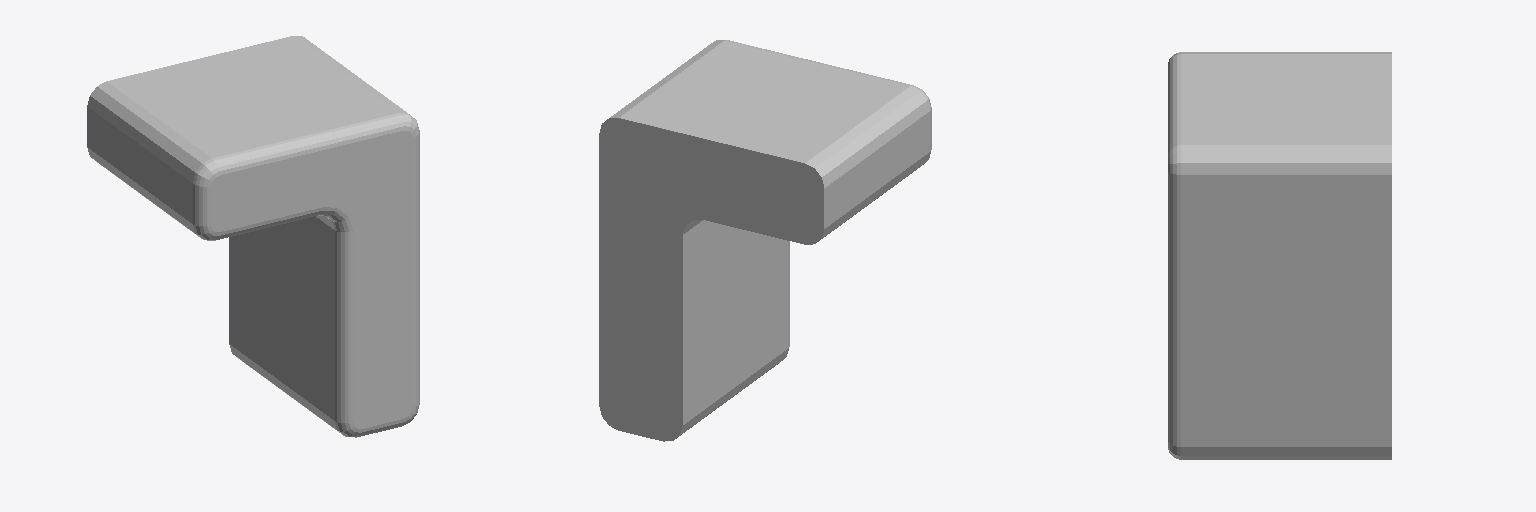
The model's file is 2_L_Wall.obj.
The picture shows the model from 3 angles: view 1: azimuth 30°, elevation 25°; view 2: azimuth 150°, elevation 25°; view 3: azimuth 270°, elevation 25°; orthographic projection.
Visible parts, largest first — view 1: L_Wall_Plane.016; view 2: L_Wall_Plane.016; view 3: L_Wall_Plane.016.
Part boxes in pixels (x1,y1,x2,y2): L_Wall_Plane.016: (87,36,419,437); L_Wall_Plane.016: (599,40,931,441); L_Wall_Plane.016: (1168,52,1391,459).
Size of the model in its own units: 5.79 by 7.69 by 5.